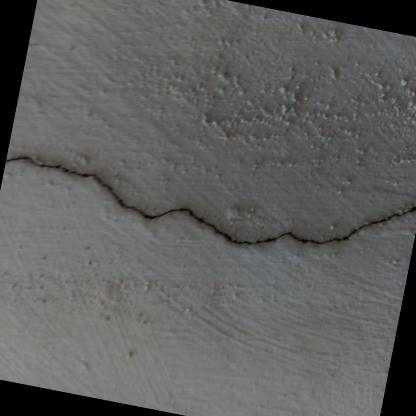crack: (39, 163, 416, 246), (5, 157, 29, 162)
